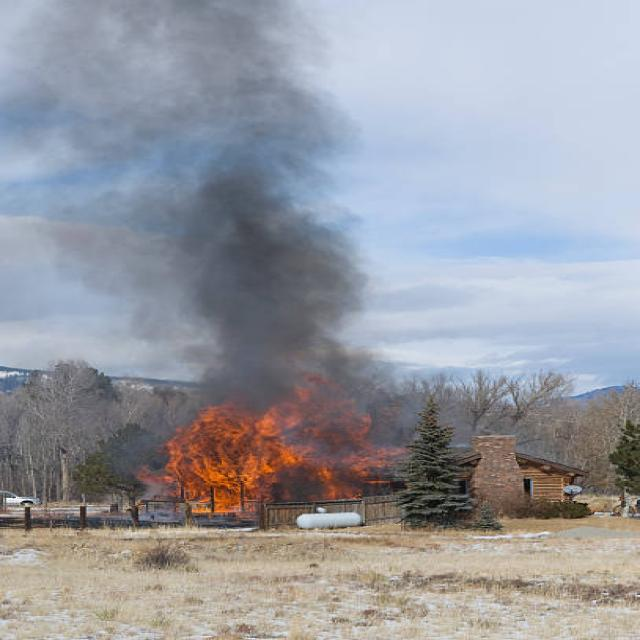Fire: (147, 390, 396, 510)
Smoke: (93, 0, 387, 466)
